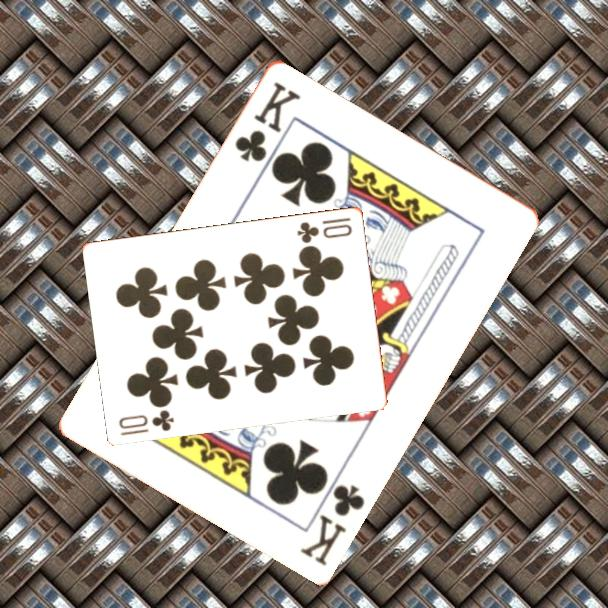c10: (294, 213, 355, 245), (116, 406, 177, 438)
c13: (296, 480, 368, 569), (231, 77, 304, 164)
